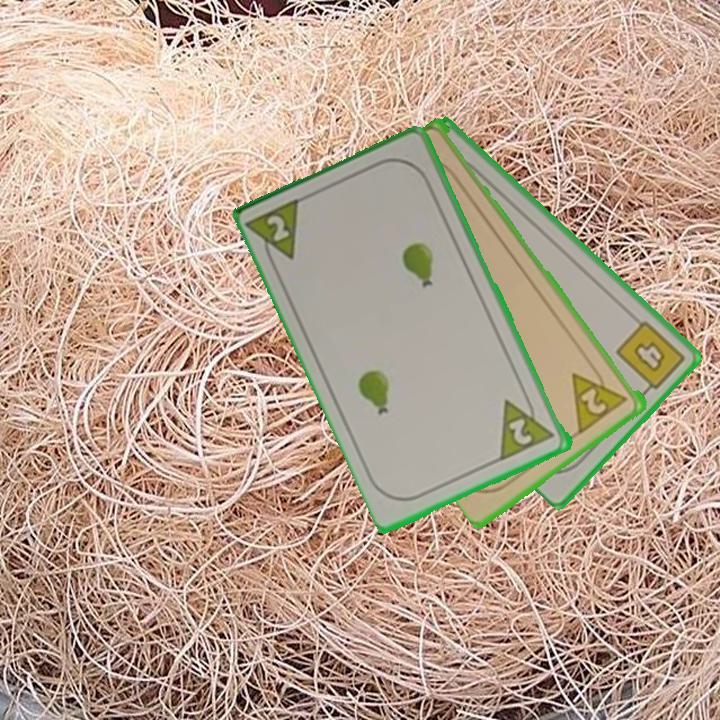2p: (568, 359, 631, 436), (245, 194, 307, 272), (496, 388, 558, 463)
4b: (612, 317, 689, 399)
